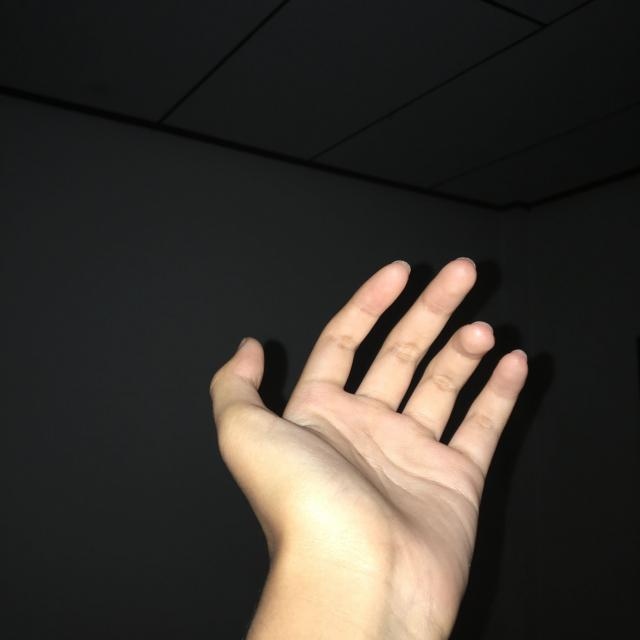bare_hand: (211, 258, 531, 640)
